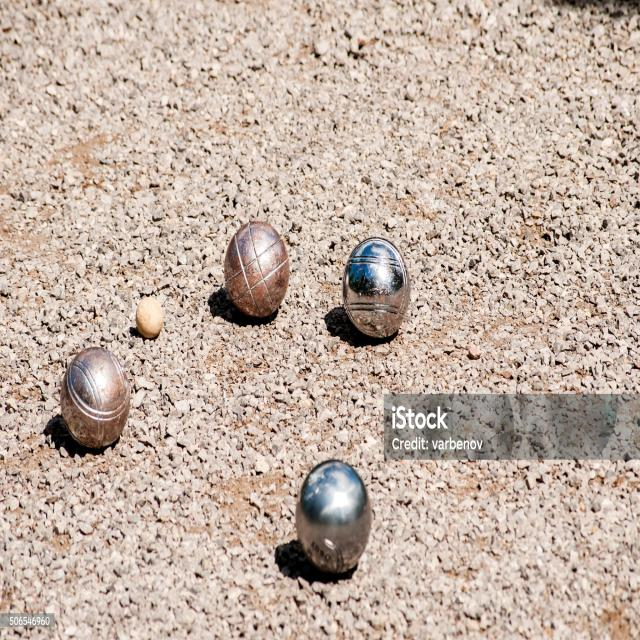hatball: (122, 288, 174, 347)
petanque: (286, 444, 379, 585), (327, 227, 418, 355), (51, 337, 137, 457), (216, 221, 294, 330)
